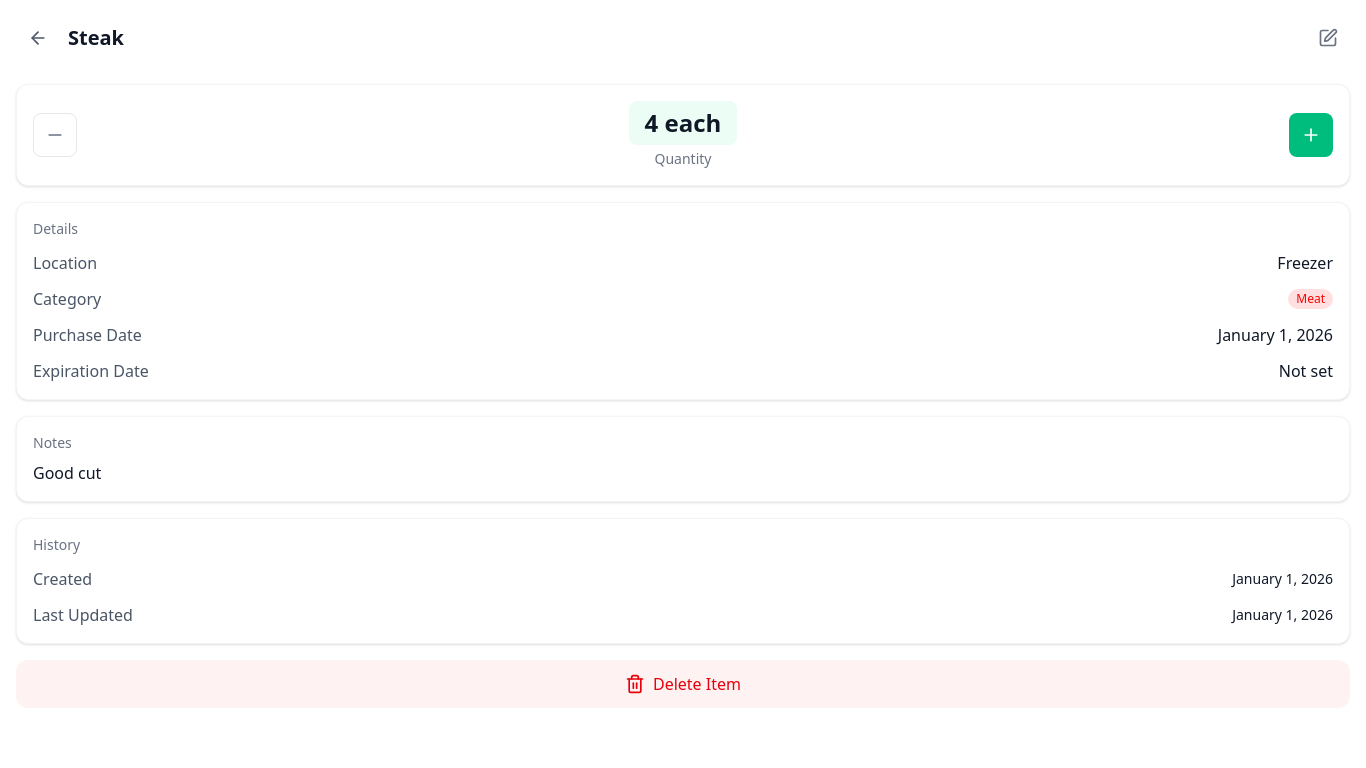
Test: ItemDetailPage › does not delete when Cancel is clicked after typing 0
Click the button with aria-label "Tap to edit quantity" at (683, 123), box x1=629 y1=101 x2=737 y2=145
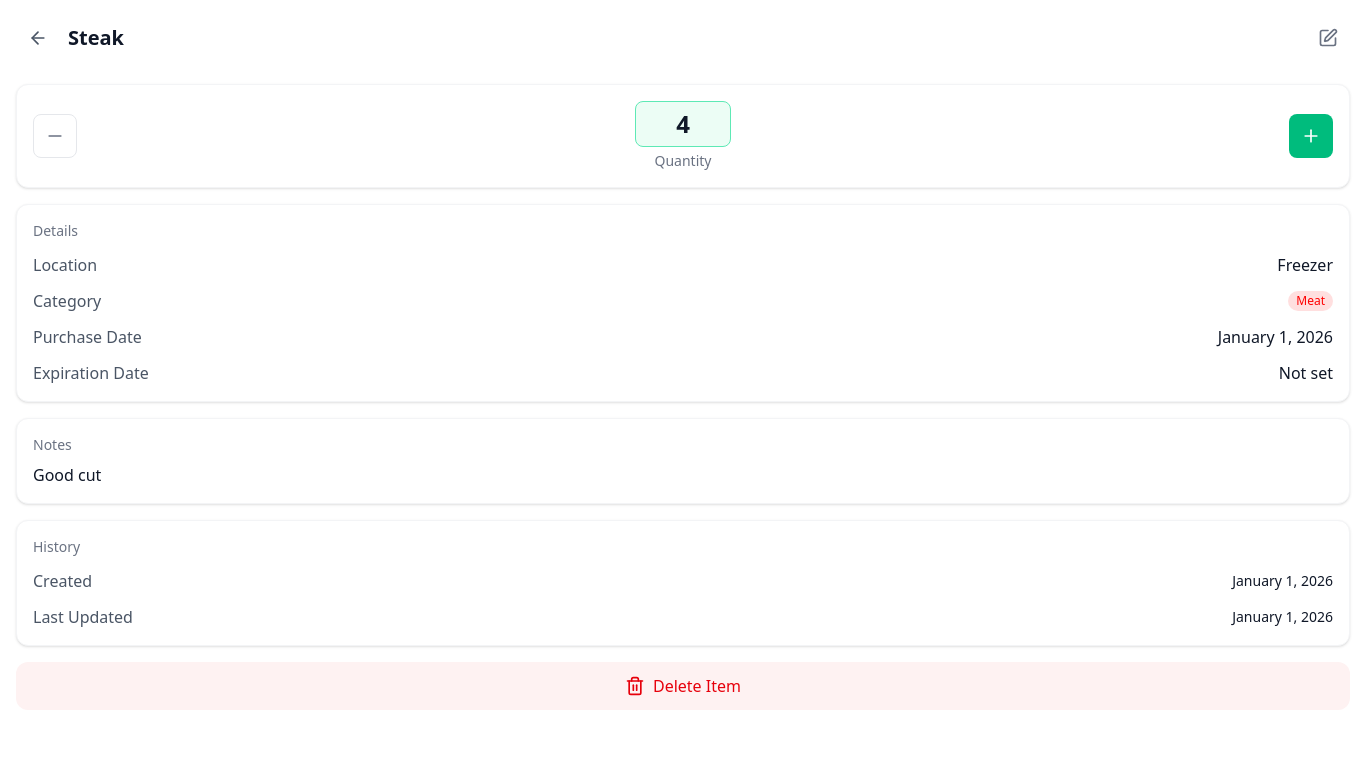
Replace the text in the number field with "0" at (683, 124), box x1=635 y1=101 x2=731 y2=147
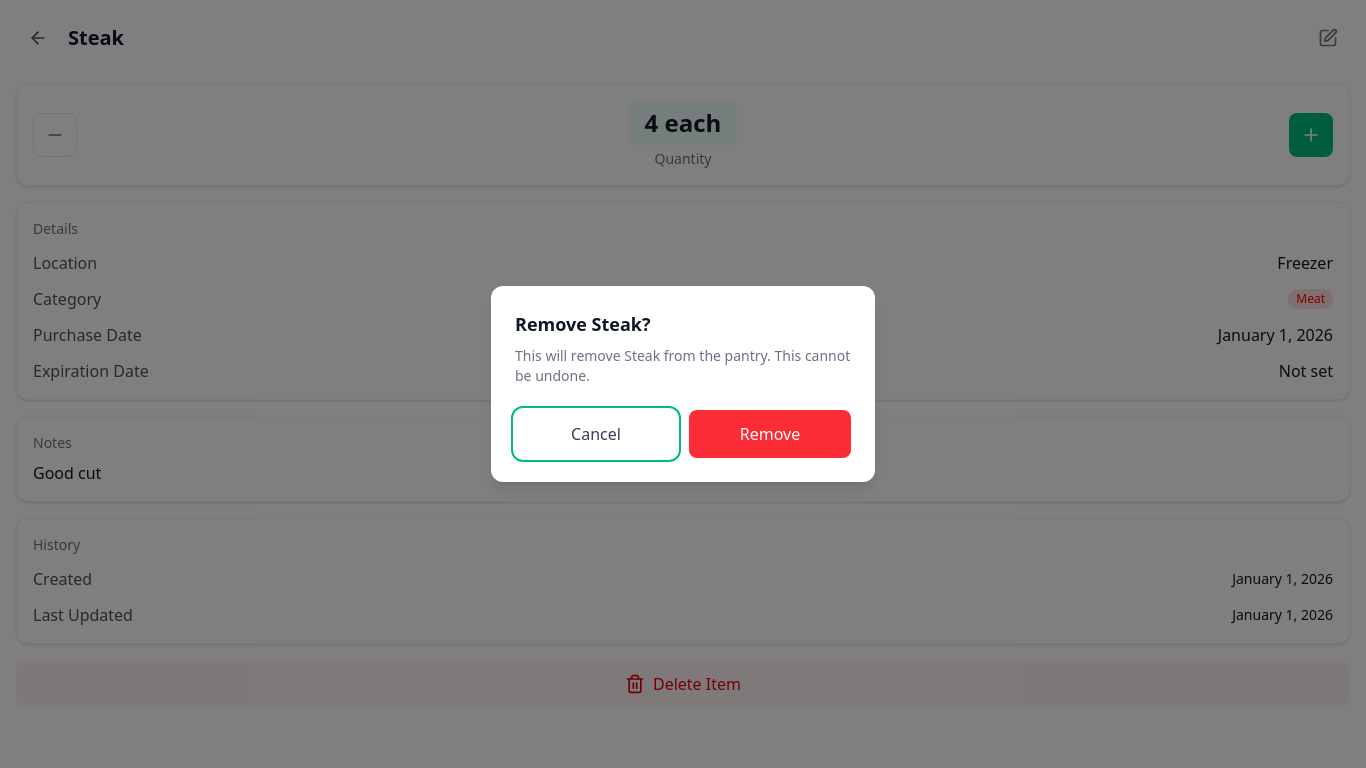
Click the button "Cancel" at (596, 434), box x1=515 y1=410 x2=677 y2=458
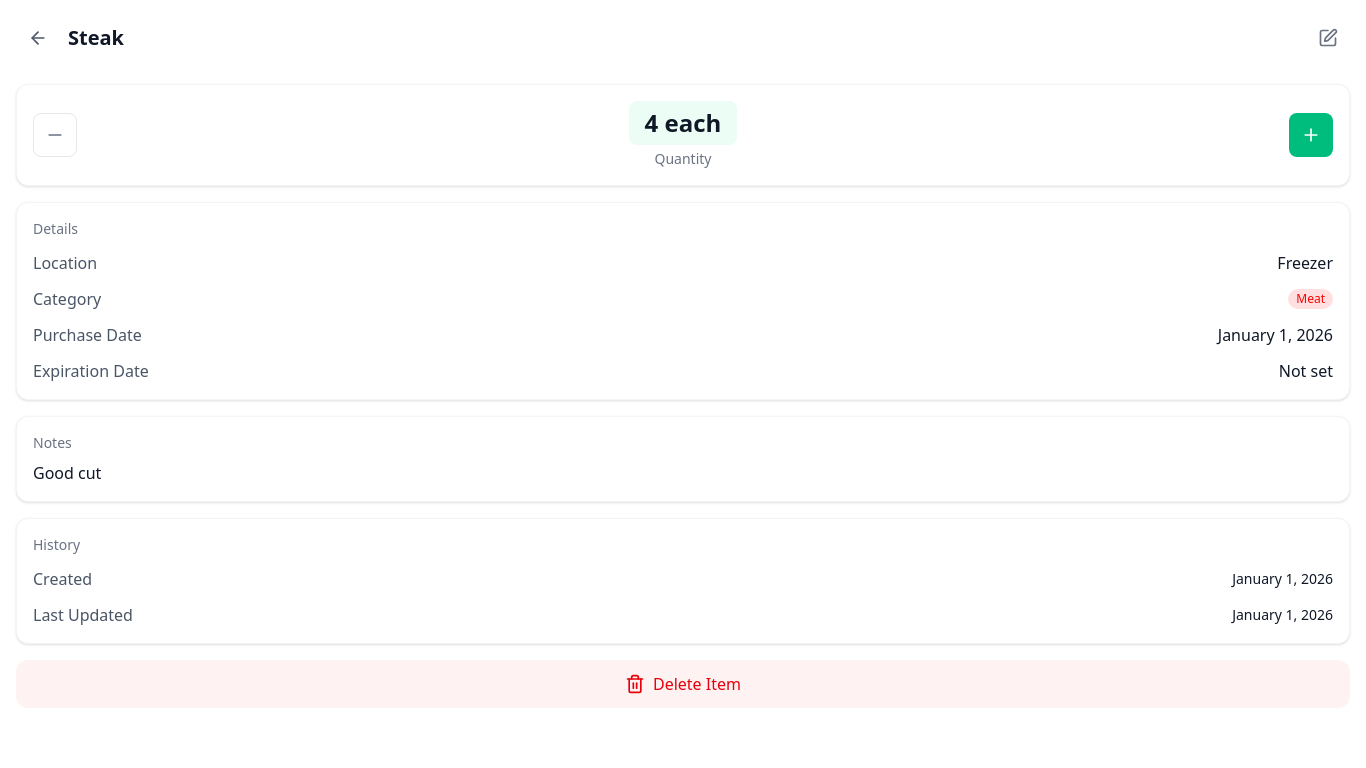
Expected: the button "4 each" is shown, x1=629 y1=101 x2=737 y2=145
Expected: the heading "Remove Steak?" is gone
